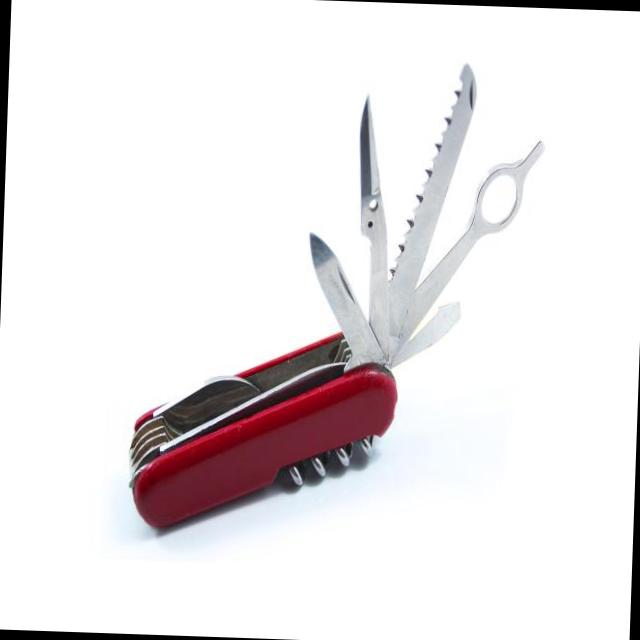Knife: (130, 65, 542, 526)
